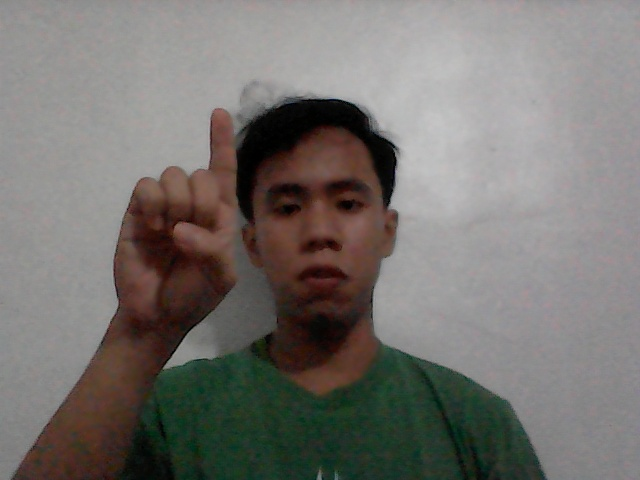D: (82, 97, 279, 357)
